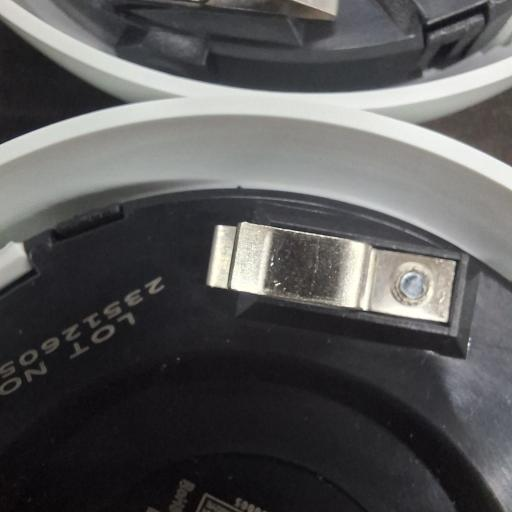yayli: (208, 220, 462, 328)
